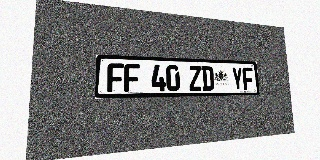0: (166, 65, 180, 91)
4: (151, 64, 166, 91)
D: (201, 66, 214, 91)
F: (107, 63, 124, 92), (124, 64, 140, 92), (242, 67, 254, 90)
Y: (231, 67, 243, 90)
Z: (188, 66, 202, 91)
